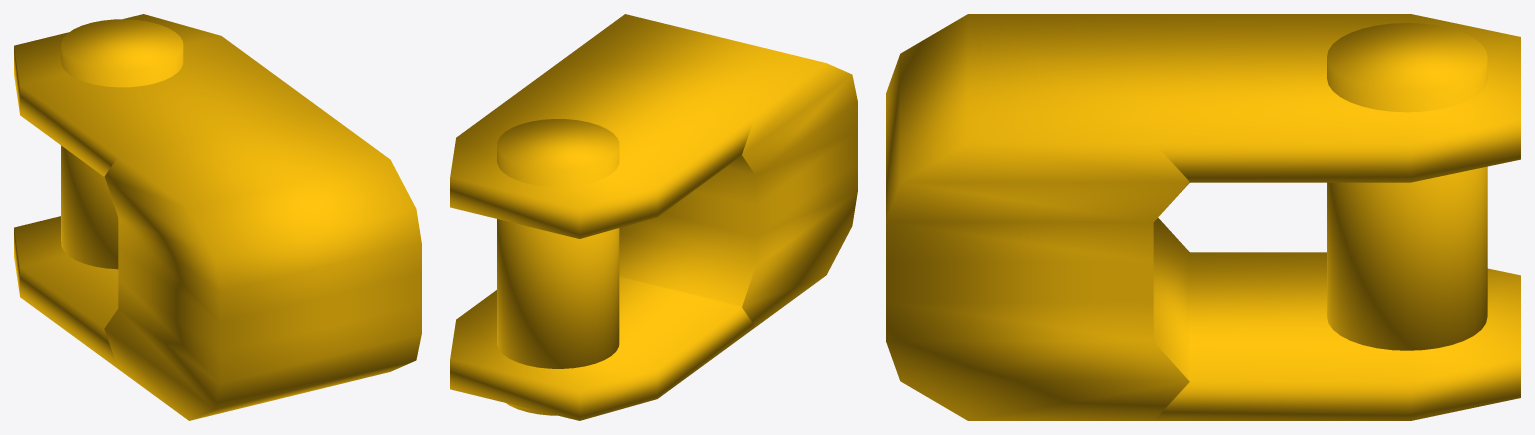
The model's file is hook_lower_block.glb.
3 renders of one model, left to right at view 1: azimuth 30°, elevation 25°; view 2: azimuth 150°, elevation 25°; view 3: azimuth 270°, elevation 25°, orthographic. The views are drawn at different scales.
Parts seen in each view (by area): view 1: lower_block; view 2: lower_block; view 3: lower_block.
Part boxes in pixels (x1=…): lower_block: x1=14, y1=14, x2=421, y2=420; lower_block: x1=450, y1=14, x2=857, y2=420; lower_block: x1=886, y1=14, x2=1520, y2=420.
Bounding box in the file's own units: 1.14 × 1.32 × 2.37.
